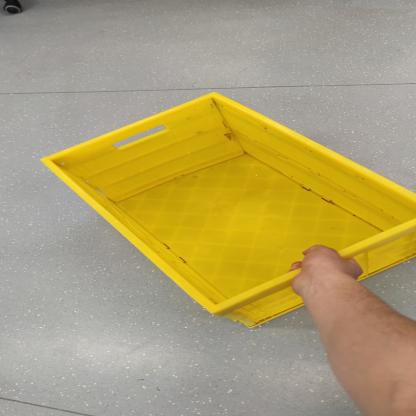box: (29, 83, 416, 334)
